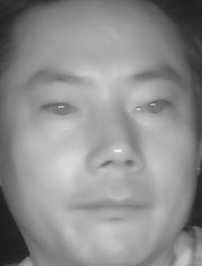eye: (132, 95, 177, 120), (39, 97, 83, 120)
mouth: (73, 184, 153, 229)
